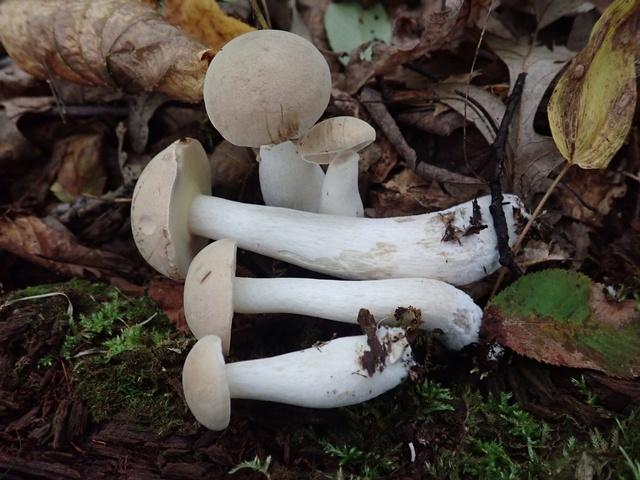edible_mushroom: (129, 127, 347, 287), (160, 288, 343, 437), (202, 28, 332, 211), (296, 114, 376, 217)
